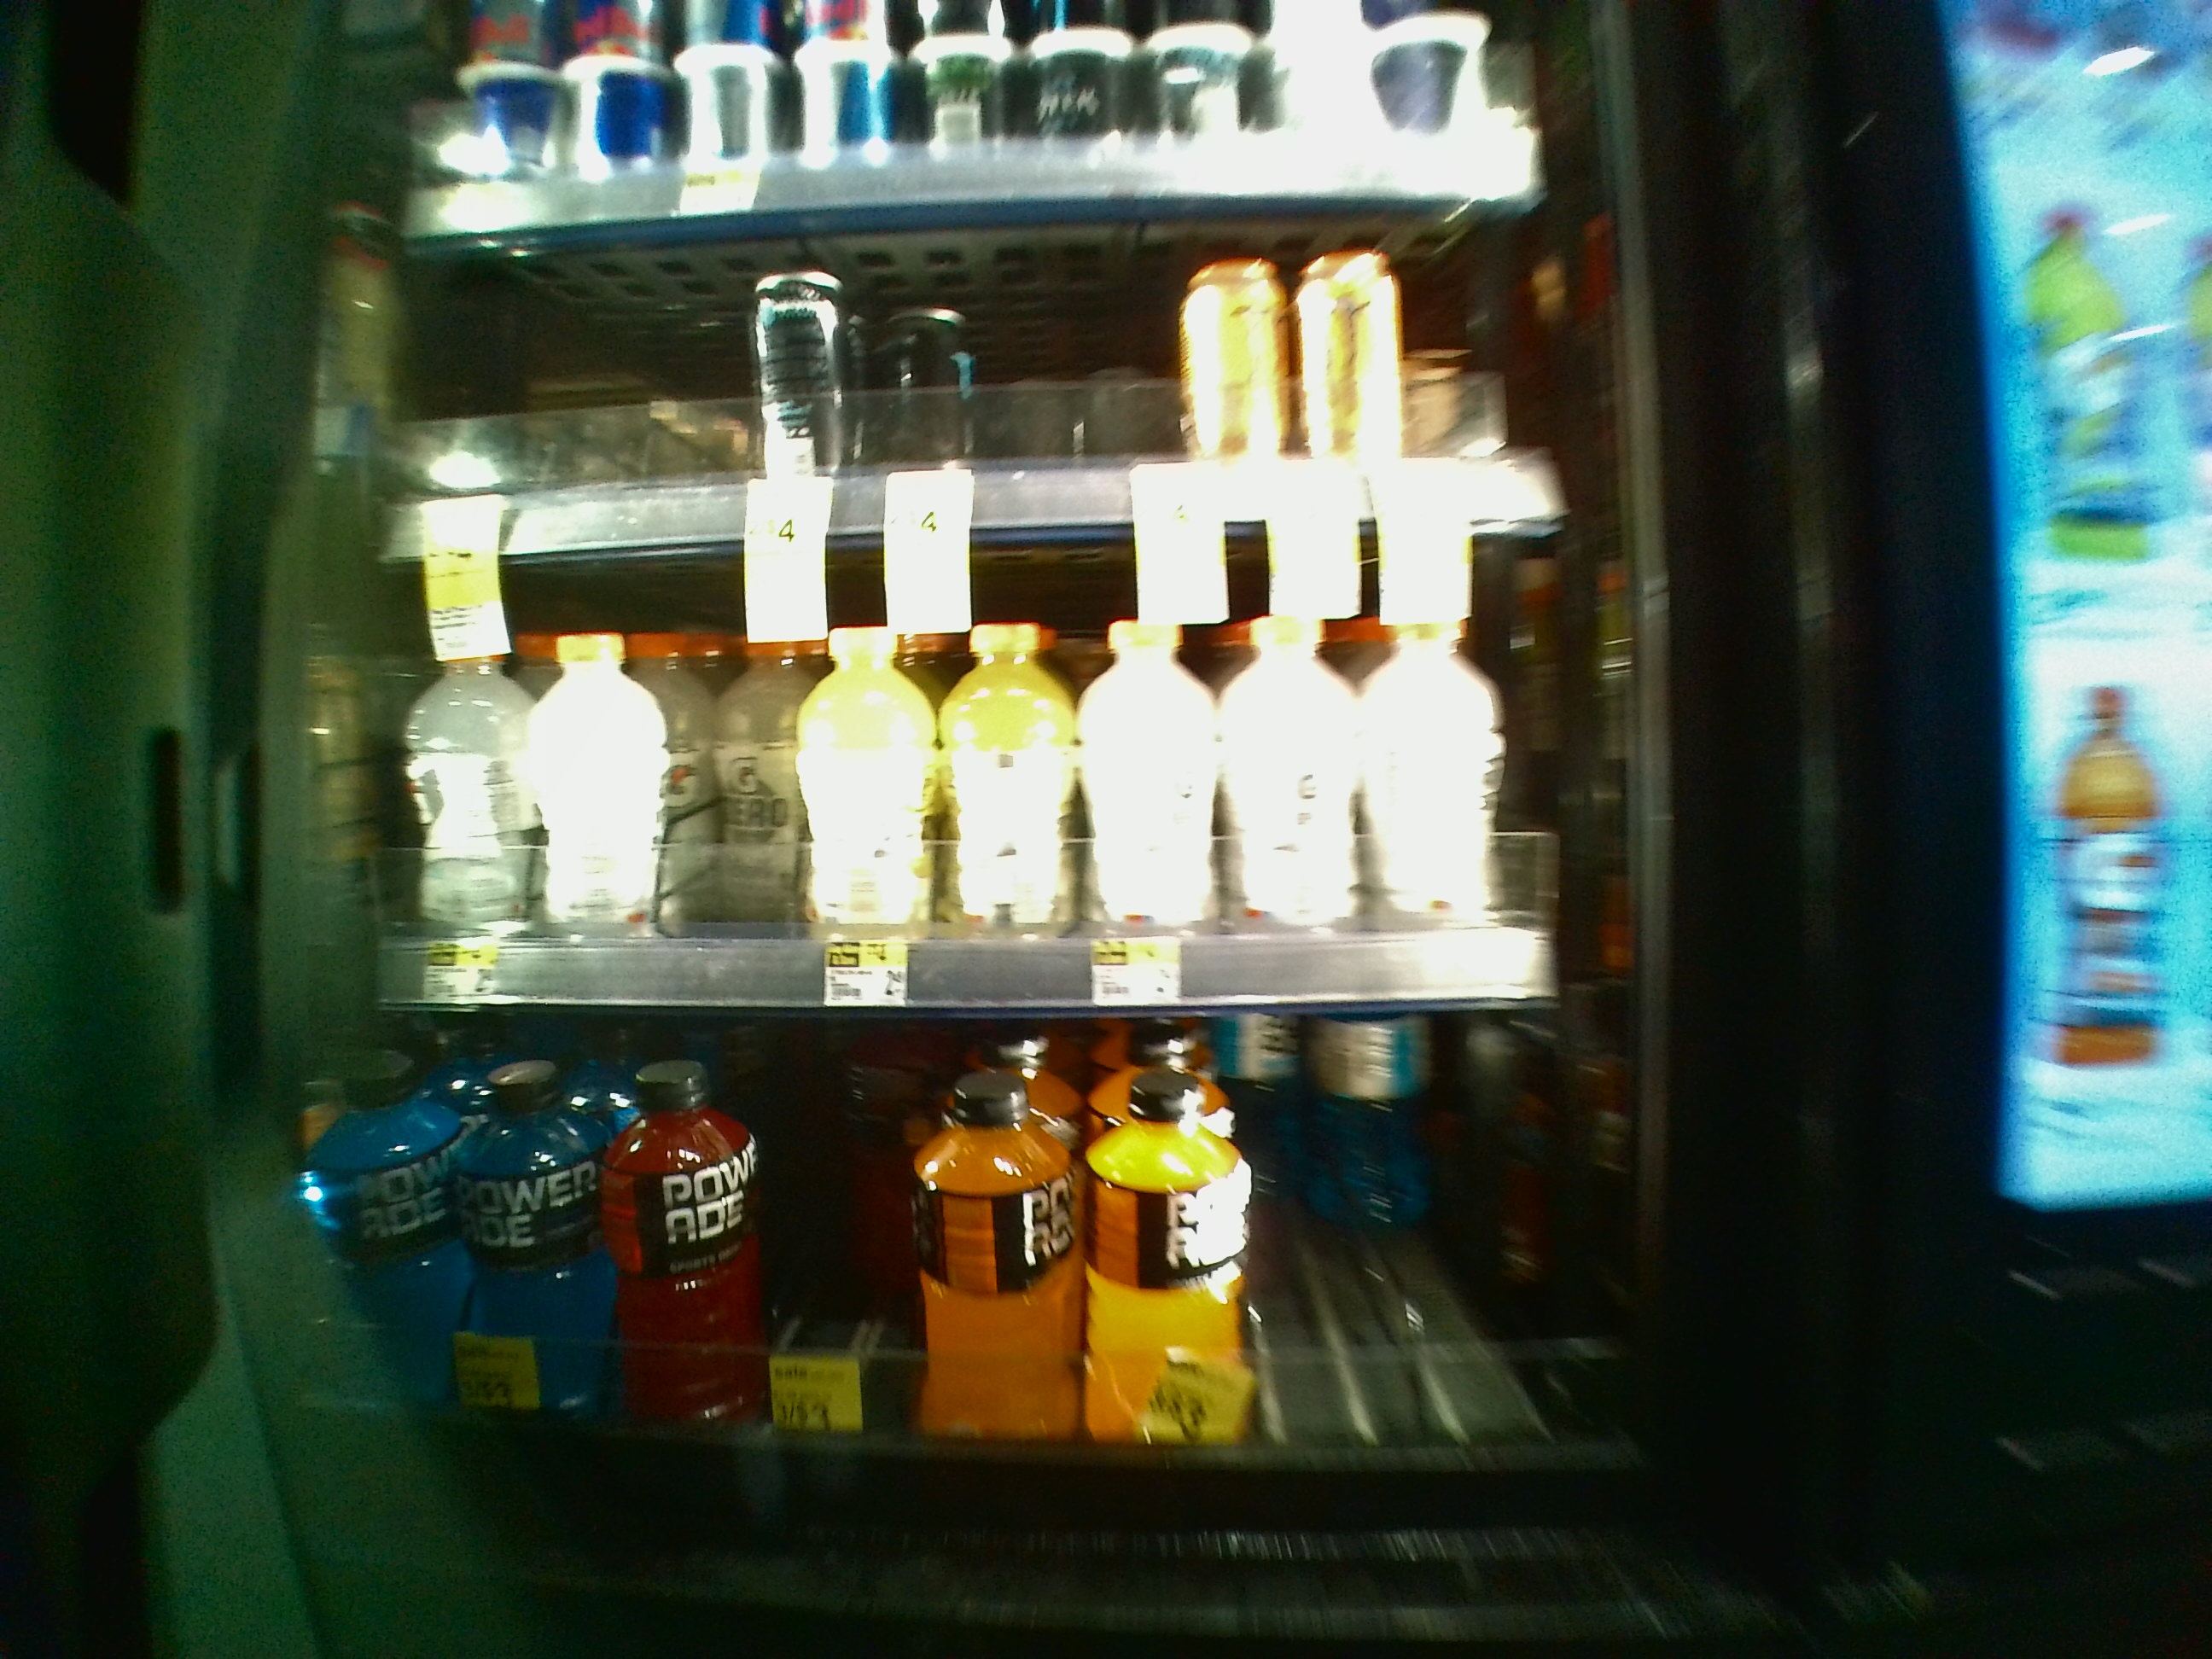shelf: (364, 544, 1634, 1000), (390, 204, 1637, 535)
